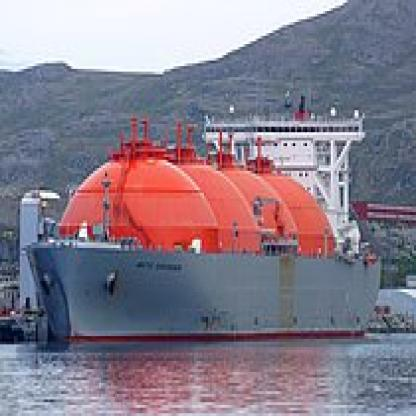Tanker: (34, 162, 381, 344)
